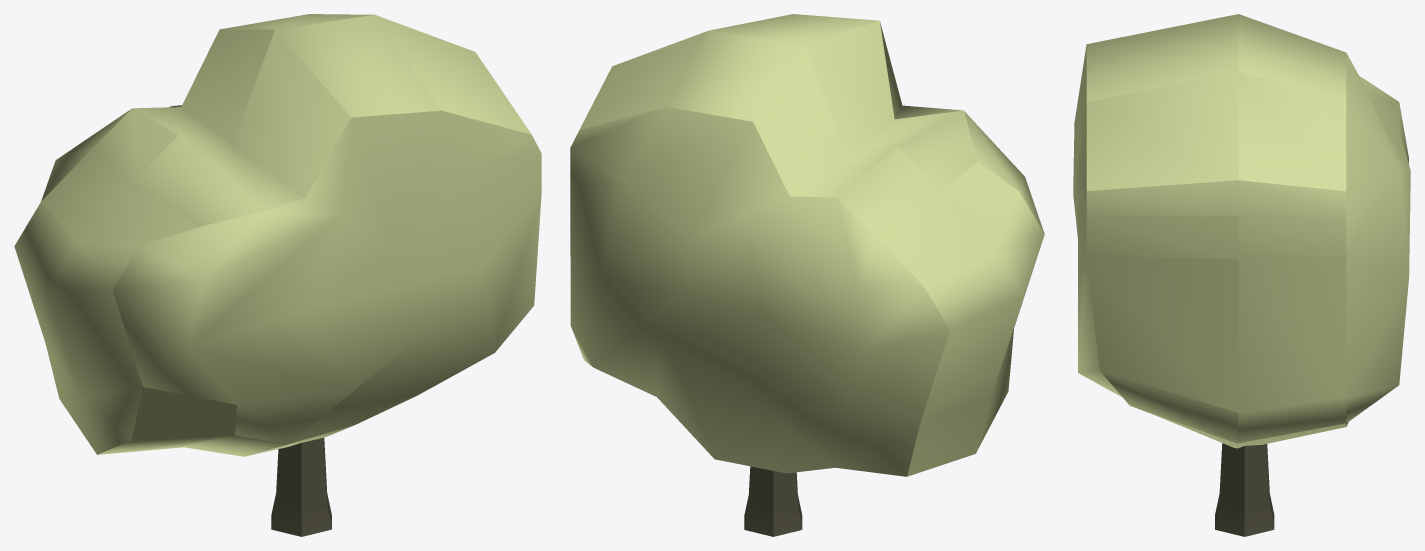
The model's file is Tree2.fbx.
The picture shows the model from 3 angles, left to right: view 1: azimuth 30°, elevation 25°; view 2: azimuth 150°, elevation 25°; view 3: azimuth 270°, elevation 25°; orthographic projection. The views are drawn at different scales.
Visible parts, largest first — view 1: Tree2Canopy, Tree2Trunk; view 2: Tree2Canopy, Tree2Trunk; view 3: Tree2Canopy, Tree2Trunk.
Part boxes in pixels (x1,y1,x2,y2): Tree2Canopy: (14,14,541,456); Tree2Trunk: (271,437,331,536); Tree2Canopy: (570,14,1044,476); Tree2Trunk: (744,466,802,536); Tree2Canopy: (1073,14,1410,448); Tree2Trunk: (1215,443,1274,536).
Size of the model in its own units: 3.11 by 3.4 by 2.11.
